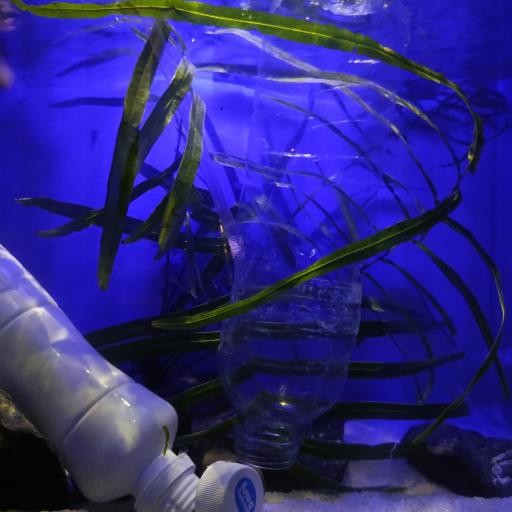bottle_cap: (197, 461, 263, 512)
plastic_bottle: (217, 2, 400, 468), (0, 244, 202, 511)
plastic_straw: (140, 17, 238, 251)
